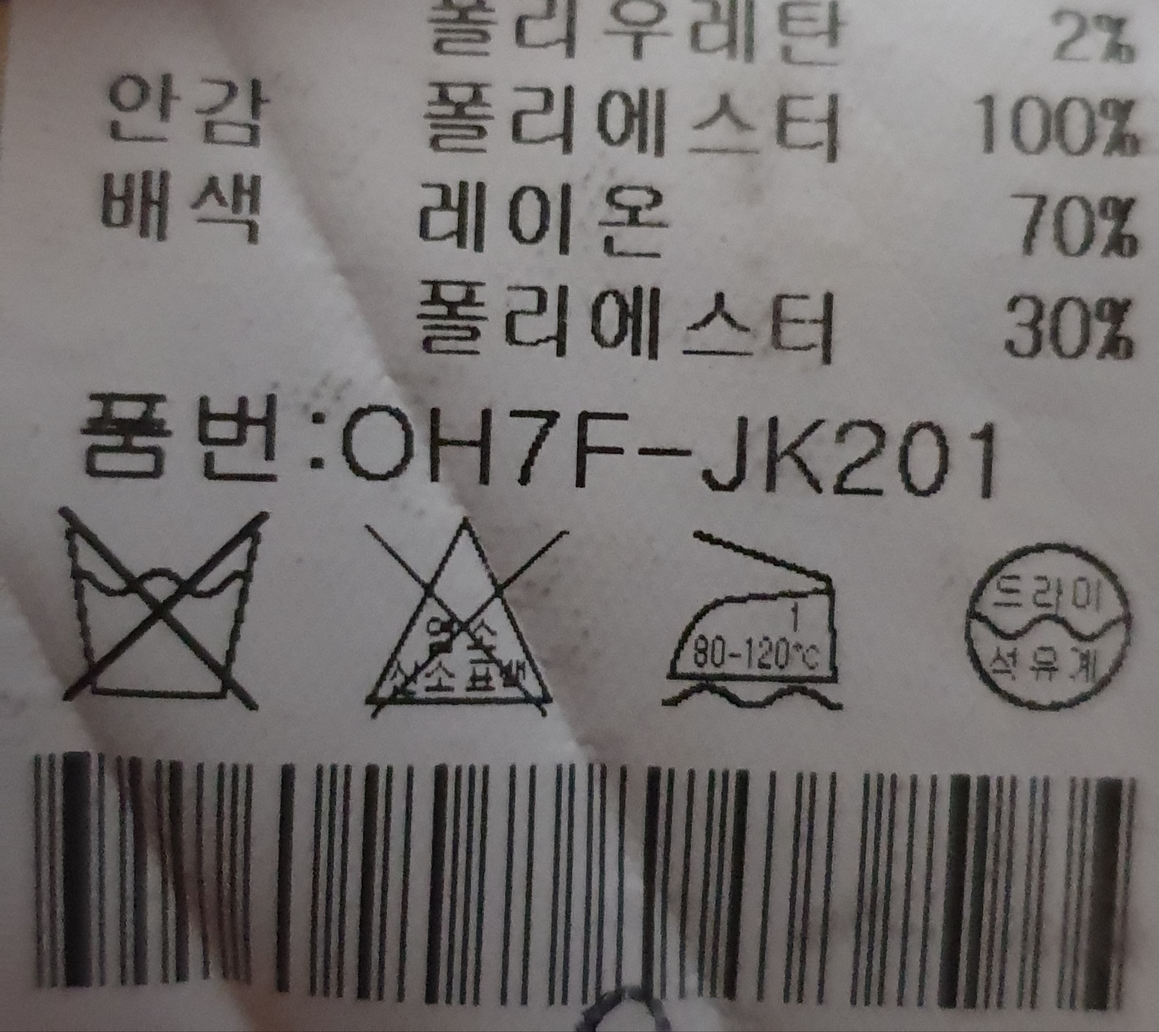KR_dry_clean_petroleum: (951, 524, 1144, 724)
KR_iron_low_temp_with_cloth: (652, 509, 858, 720)
KR_no_bleach: (347, 509, 574, 730)
KR_no_wash: (50, 489, 270, 717)
